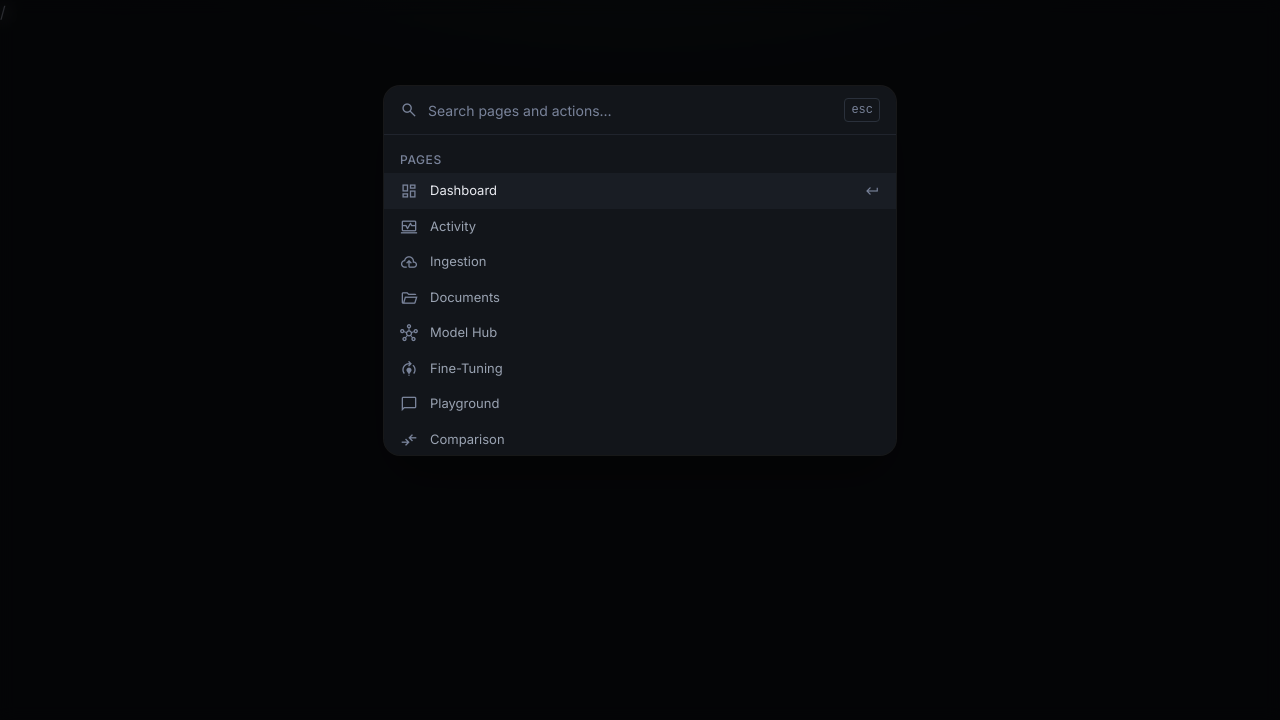
Test: CommandPalette › shows an empty message when nothing matches
Type "zzzzz" into the dropdown at (631, 110), box x1=428 y1=86 x2=834 y2=134
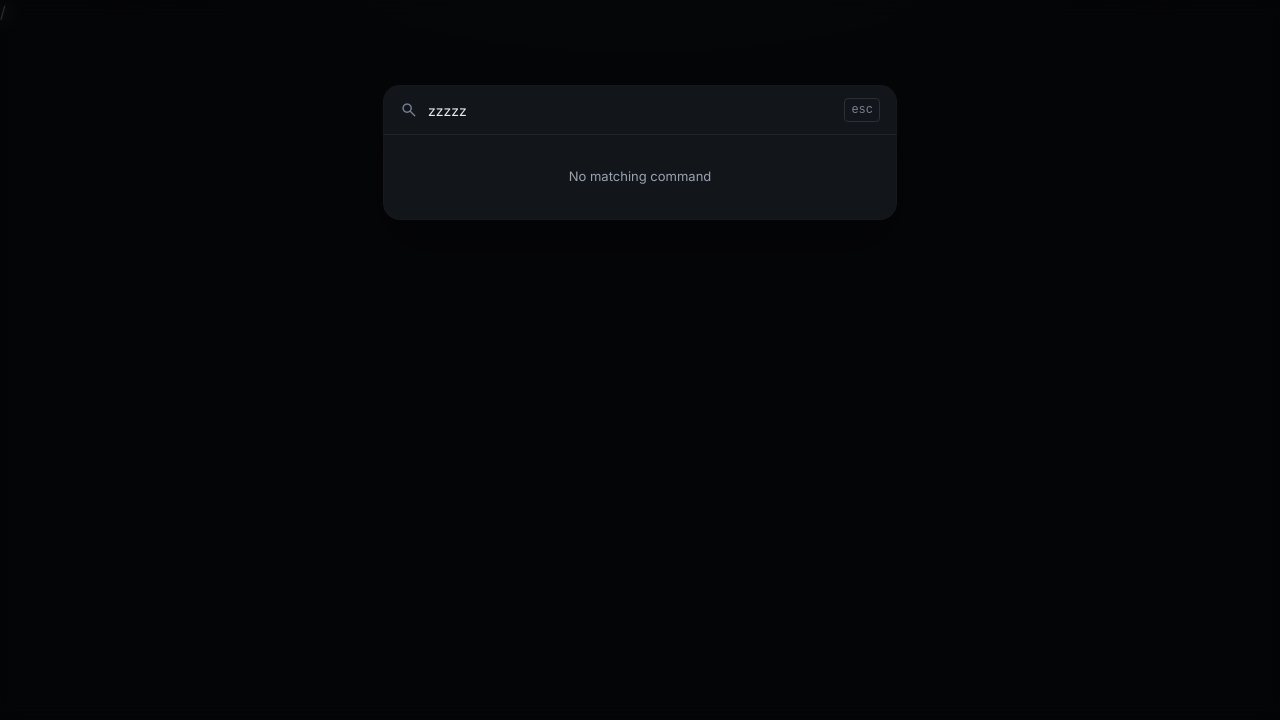
Expected: the text "No matching command" is shown, x1=569 y1=168 x2=711 y2=184
